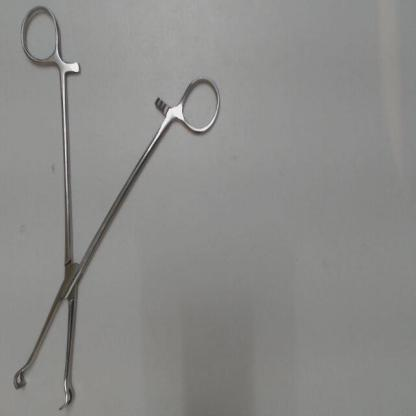8 Babcock Tissue Forceps: (7, 1, 230, 413)
